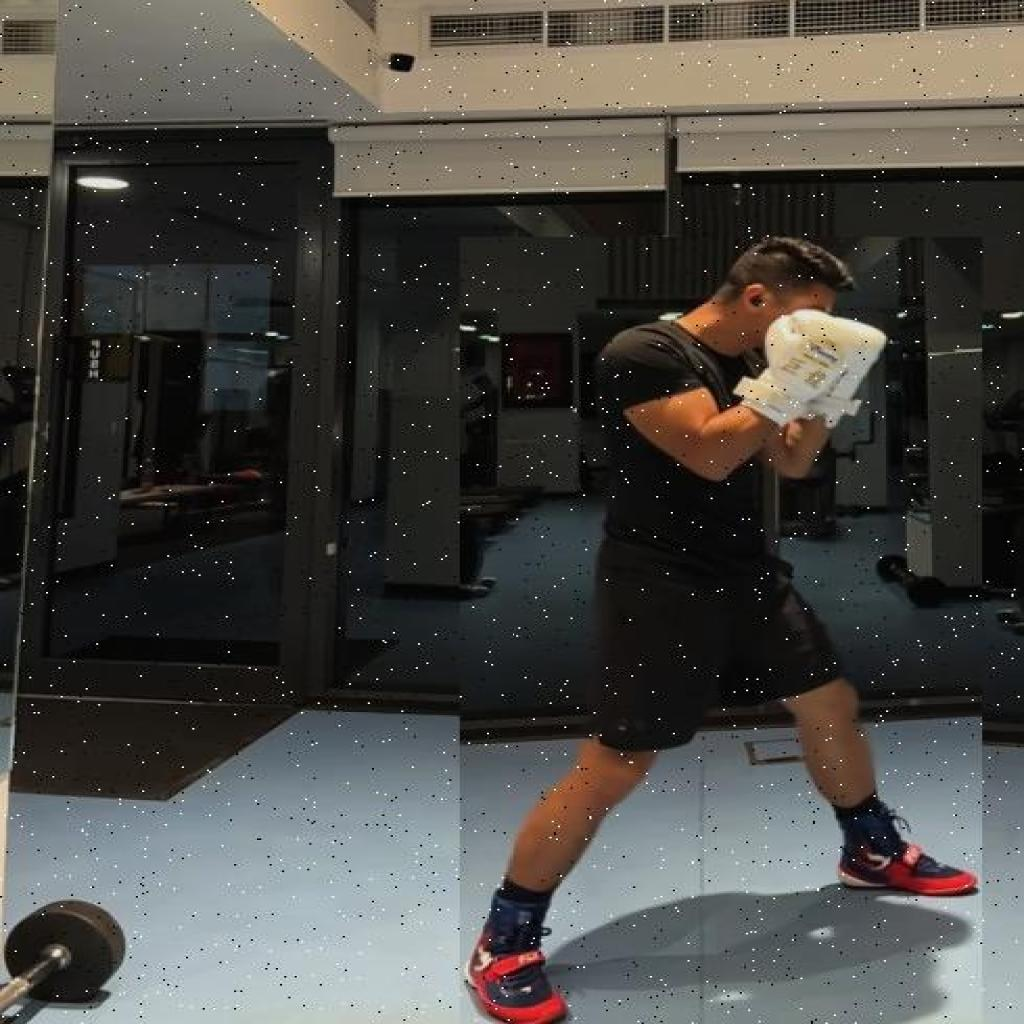no punch: (460, 237, 981, 1024)
